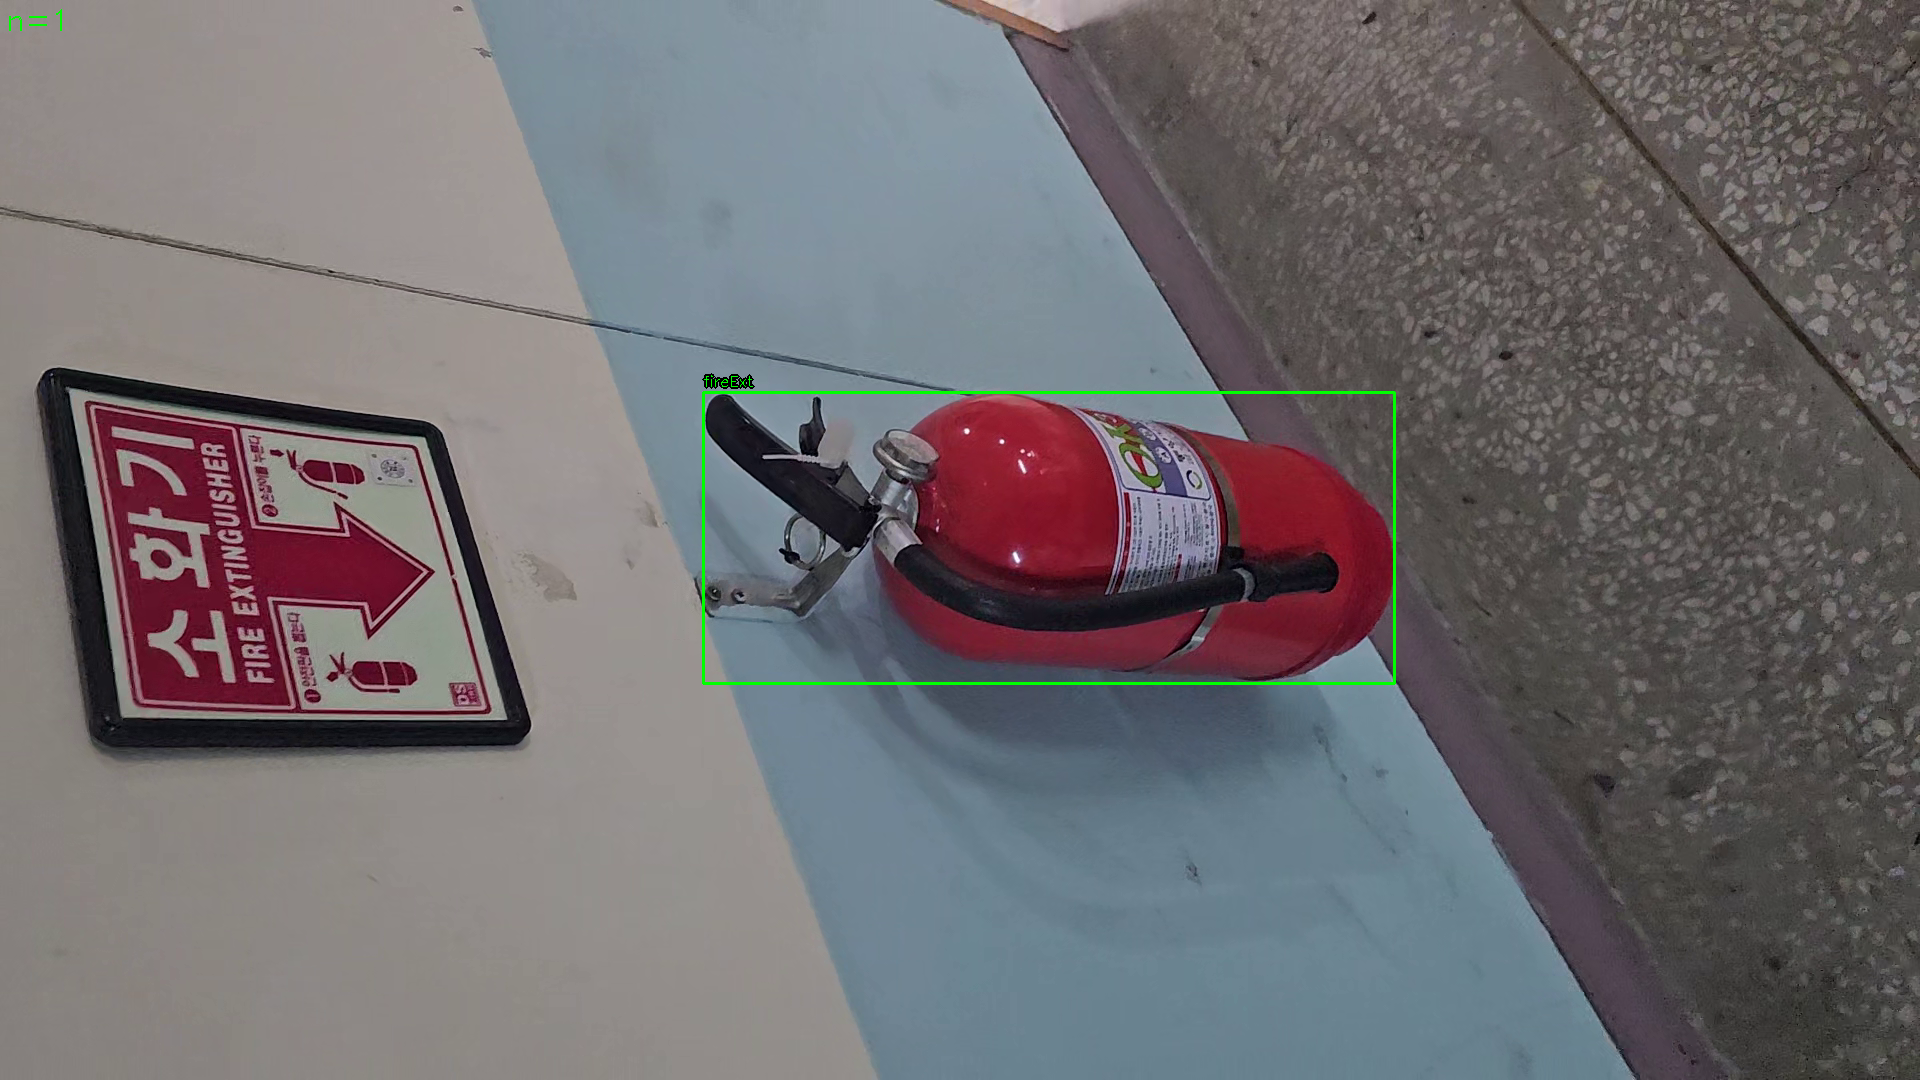lane: (703, 392, 1395, 684)
